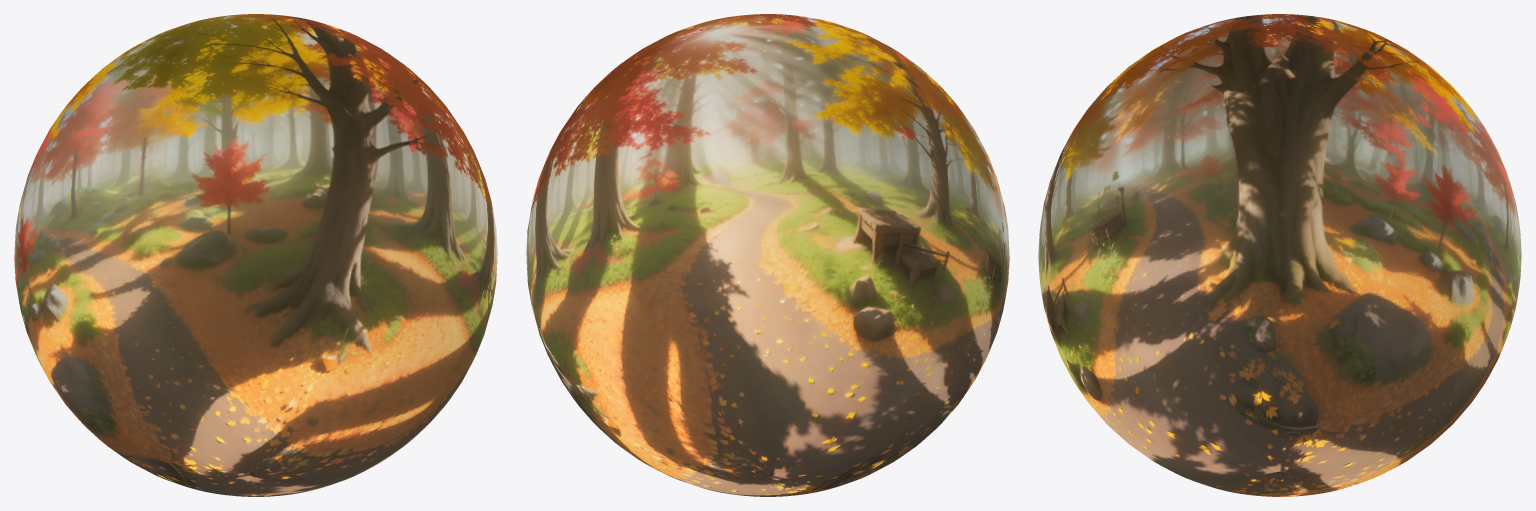
Rendered from sky_autumn.glb.
The picture shows the model from 3 angles, left to right: view 1: azimuth 30°, elevation 25°; view 2: azimuth 150°, elevation 25°; view 3: azimuth 270°, elevation 25°; orthographic projection.
Parts seen in each view (by area): view 1: Sphere__0; view 2: Sphere__0; view 3: Sphere__0.
Boxes of the visible parts, box(x1,y1,x2,y2) form: Sphere__0: box(14, 14, 497, 496); Sphere__0: box(526, 14, 1009, 496); Sphere__0: box(1038, 14, 1521, 496).
Bounding box in the file's own units: 1000 × 1000 × 1000.
1 material, 1 textured.
